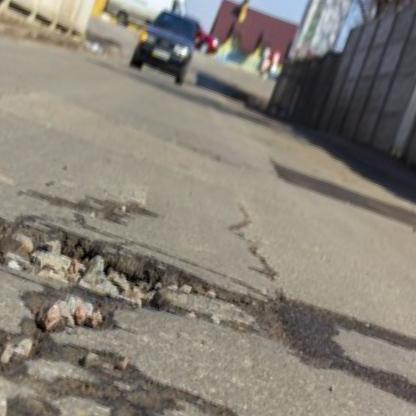pothole: (0, 185, 270, 356)
